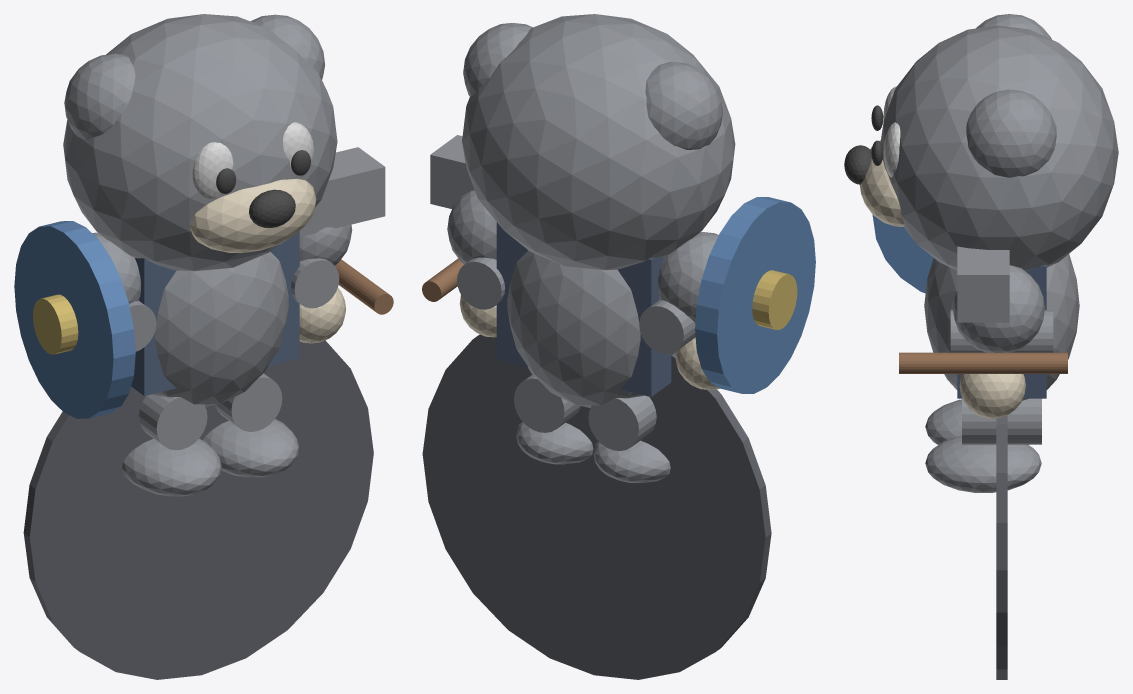
File: Titan_Prototype_V1.glb
The picture shows the model from 3 angles, left to right: view 1: azimuth 30°, elevation 25°; view 2: azimuth 150°, elevation 25°; view 3: azimuth 270°, elevation 25°; orthographic projection. The views are drawn at different scales.
Parts seen in each view (by area): view 1: Base, Head, Shield, Body, Muzzle, HeavyArmor, HammerHead, Ear_-1, Foot_-1, Foot_1, Leg_-1, Leg_1 (+11 smaller); view 2: Base, Head, Shield, Body, HeavyArmor, Ear_-1, ShoulderL, Leg_-1, ShoulderR, Ear_1, Foot_-1, Foot_1 (+8 smaller); view 3: Head, Ear_1, Body, Foot_1, HammerHead, ShoulderR, HammerHandle, Base, Leg_1, Hand_1, Shield, Muzzle (+6 smaller).
Boxes of the visible parts, <box> form: Base: <box>23,340,373,679</box>; Head: <box>63,14,337,271</box>; Shield: <box>14,221,135,418</box>; Body: <box>152,251,288,406</box>; Muzzle: <box>189,179,316,252</box>; HeavyArmor: <box>131,231,299,395</box>; HammerHead: <box>299,147,385,236</box>; Ear_-1: <box>64,54,135,139</box>; Foot_-1: <box>122,438,221,496</box>; Foot_1: <box>202,419,298,477</box>; Leg_-1: <box>139,394,207,450</box>; Leg_1: <box>215,373,282,431</box>; Base: <box>422,334,771,679</box>; Head: <box>462,14,735,270</box>; Shield: <box>695,197,815,393</box>; Body: <box>507,250,671,407</box>; HeavyArmor: <box>496,222,675,396</box>; Ear_-1: <box>645,62,722,149</box>; ShoulderL: <box>658,232,718,322</box>; Leg_-1: <box>588,395,656,450</box>; ShoulderR: <box>447,190,496,264</box>; Ear_1: <box>463,23,532,96</box>; Foot_-1: <box>593,440,670,482</box>; Foot_1: <box>516,422,593,464</box>; Head: <box>880,25,1118,271</box>; Ear_1: <box>966,89,1056,177</box>; Body: <box>924,254,1079,400</box>; Foot_1: <box>925,435,1041,492</box>; HammerHead: <box>957,246,1009,322</box>; ShoulderR: <box>952,265,1044,352</box>; HammerHandle: <box>899,352,1067,373</box>; Base: <box>996,415,1007,679</box>; Leg_1: <box>962,398,1041,444</box>; Hand_1: <box>959,374,1025,418</box>; Shield: <box>872,215,933,293</box>; Muzzle: <box>859,140,904,226</box>.
Bounding box in the file's own units: 2.48 × 4.48 × 1.79.
